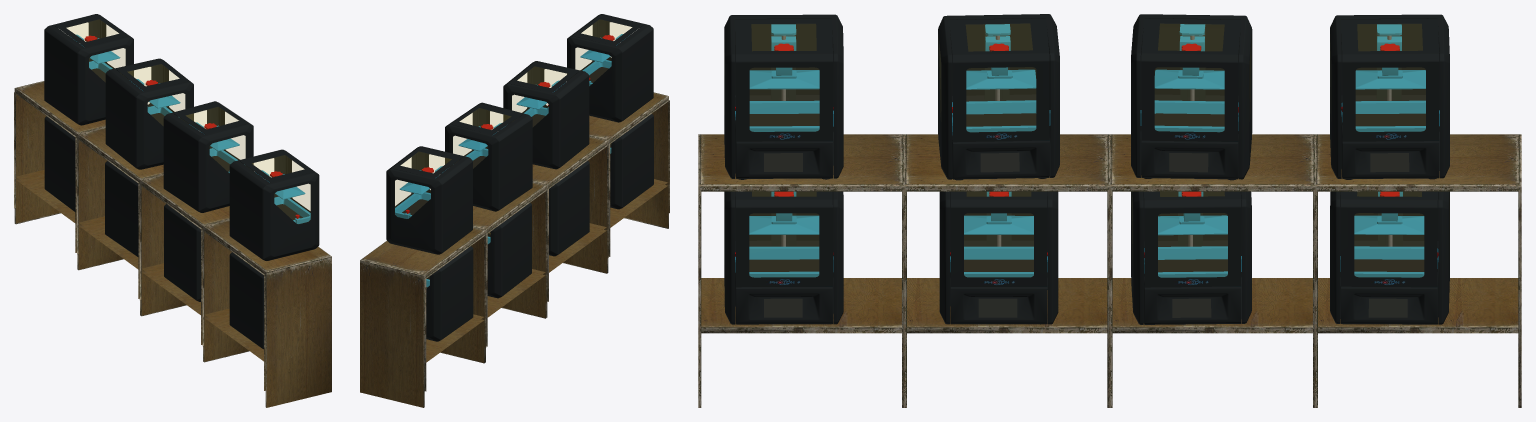
The model's file is Racks.glb.
The picture shows the model from 3 angles, left to right: view 1: azimuth 30°, elevation 25°; view 2: azimuth 150°, elevation 25°; view 3: azimuth 270°, elevation 25°; orthographic projection. The views are drawn at different scales.
Visible parts, largest first — view 1: tumba_village_180x120.object_wood_table_02_S_0, defaultMaterial.008, defaultMaterial.006, defaultMaterial.002, defaultMaterial.004, defaultMaterial.005, defaultMaterial.007, defaultMaterial.003, defaultMaterial.001; view 2: tumba_village_180x120.object_wood_table_02_S_0, defaultMaterial.002, defaultMaterial.008, defaultMaterial.004, defaultMaterial.006, defaultMaterial.001, defaultMaterial.003, defaultMaterial.007, defaultMaterial.005; view 3: tumba_village_180x120.object_wood_table_02_S_0, defaultMaterial.006, defaultMaterial.004, defaultMaterial.008, defaultMaterial.002, defaultMaterial.003, defaultMaterial.005, defaultMaterial.007, defaultMaterial.001.
Part boxes in pixels (x1=…): tumba_village_180x120.object_wood_table_02_S_0: x1=14, y1=81, x2=331, y2=407; defaultMaterial.008: x1=229, y1=149, x2=319, y2=260; defaultMaterial.006: x1=163, y1=101, x2=253, y2=212; defaultMaterial.002: x1=44, y1=14, x2=133, y2=125; defaultMaterial.004: x1=105, y1=58, x2=193, y2=169; defaultMaterial.005: x1=164, y1=204, x2=200, y2=301; defaultMaterial.007: x1=229, y1=252, x2=263, y2=349; defaultMaterial.003: x1=105, y1=161, x2=138, y2=256; defaultMaterial.001: x1=44, y1=116, x2=75, y2=211; tumba_village_180x120.object_wood_table_02_S_0: x1=360, y1=92, x2=669, y2=407; defaultMaterial.002: x1=386, y1=146, x2=472, y2=254; defaultMaterial.008: x1=567, y1=14, x2=653, y2=122; defaultMaterial.004: x1=445, y1=102, x2=532, y2=211; defaultMaterial.006: x1=503, y1=61, x2=589, y2=169; defaultMaterial.001: x1=426, y1=246, x2=473, y2=341; defaultMaterial.003: x1=487, y1=202, x2=531, y2=298; defaultMaterial.007: x1=610, y1=114, x2=653, y2=209; defaultMaterial.005: x1=549, y1=160, x2=589, y2=256; tumba_village_180x120.object_wood_table_02_S_0: x1=698, y1=134, x2=1521, y2=407; defaultMaterial.006: x1=938, y1=14, x2=1059, y2=180; defaultMaterial.004: x1=1131, y1=14, x2=1252, y2=180; defaultMaterial.008: x1=724, y1=14, x2=843, y2=179; defaultMaterial.002: x1=1330, y1=14, x2=1449, y2=179; defaultMaterial.003: x1=1131, y1=191, x2=1251, y2=324; defaultMaterial.005: x1=939, y1=191, x2=1058, y2=324; defaultMaterial.007: x1=724, y1=191, x2=843, y2=324; defaultMaterial.001: x1=1330, y1=191, x2=1449, y2=324.
Bounding box in the file's own units: 39.6 × 120 × 258.
Materials: 3 (3 with a texture image).
